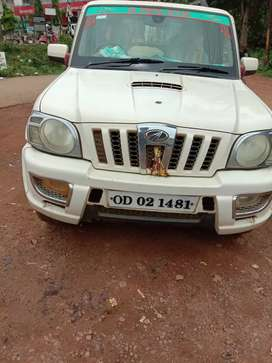OD021481: (106, 190, 199, 215)
